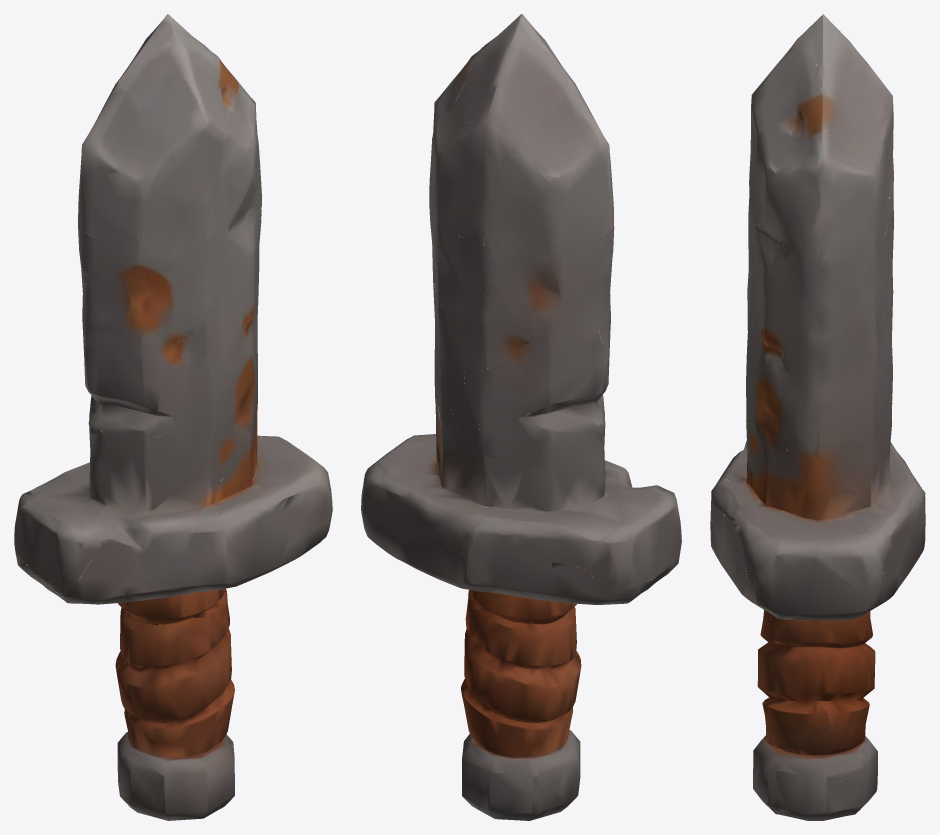
File: Arm_rusty_sword-ieGJgPnO.glb
The picture shows the model from 3 angles, left to right: view 1: azimuth 30°, elevation 25°; view 2: azimuth 150°, elevation 25°; view 3: azimuth 270°, elevation 25°; orthographic projection.
Visible parts, largest first — view 1: Arm_rusty_sword; view 2: Arm_rusty_sword; view 3: Arm_rusty_sword.
Part boxes in pixels (x1,y1,x2,y2): Arm_rusty_sword: (14, 14, 332, 820); Arm_rusty_sword: (361, 14, 681, 820); Arm_rusty_sword: (710, 14, 925, 820).
Size of the model in its own units: 0.476 by 1.33 by 0.3305.
Materials: 1 (1 with a texture image).
